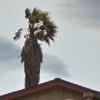Palm tree: (8, 2, 57, 84)
